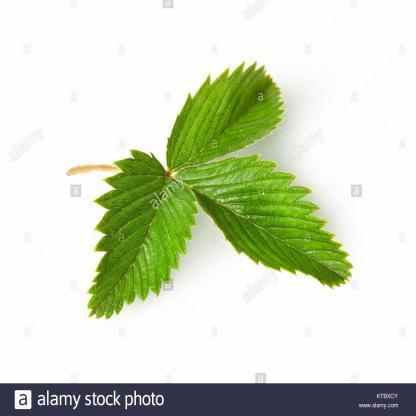strawberry leaf: (173, 157, 356, 290), (84, 143, 200, 322), (160, 62, 281, 171)
